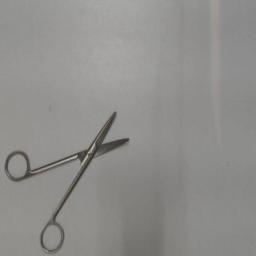Curved Mayo Scissors: (4, 107, 132, 255)
